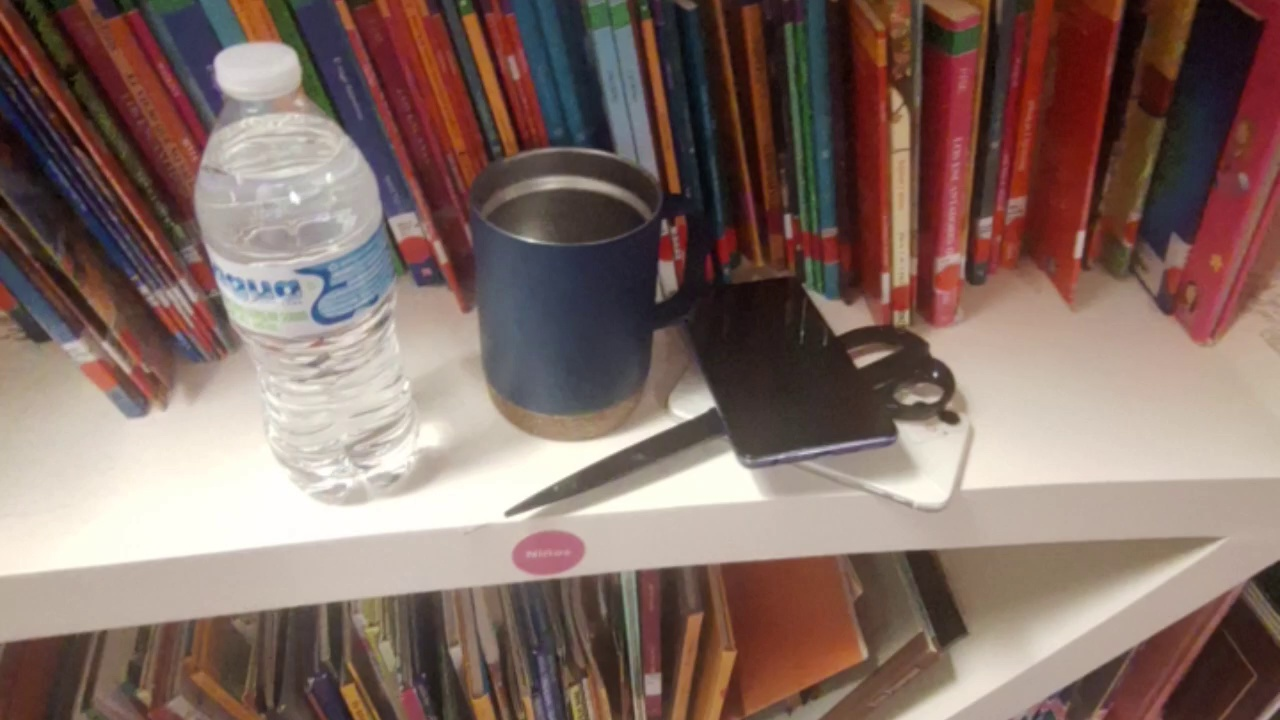botella: (193, 44, 422, 503)
taza: (466, 146, 701, 442)
